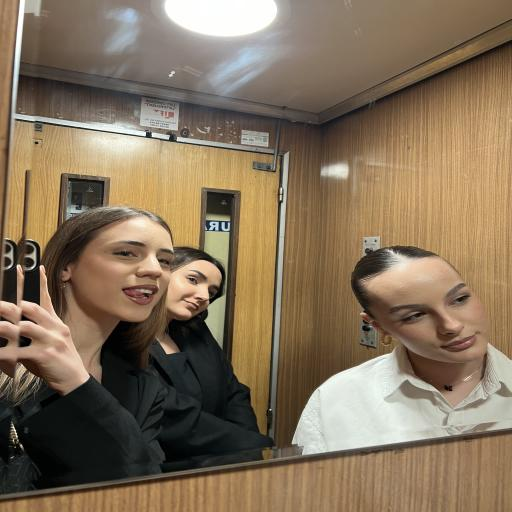marija: (351, 257, 494, 362)
masa: (72, 218, 178, 322)
